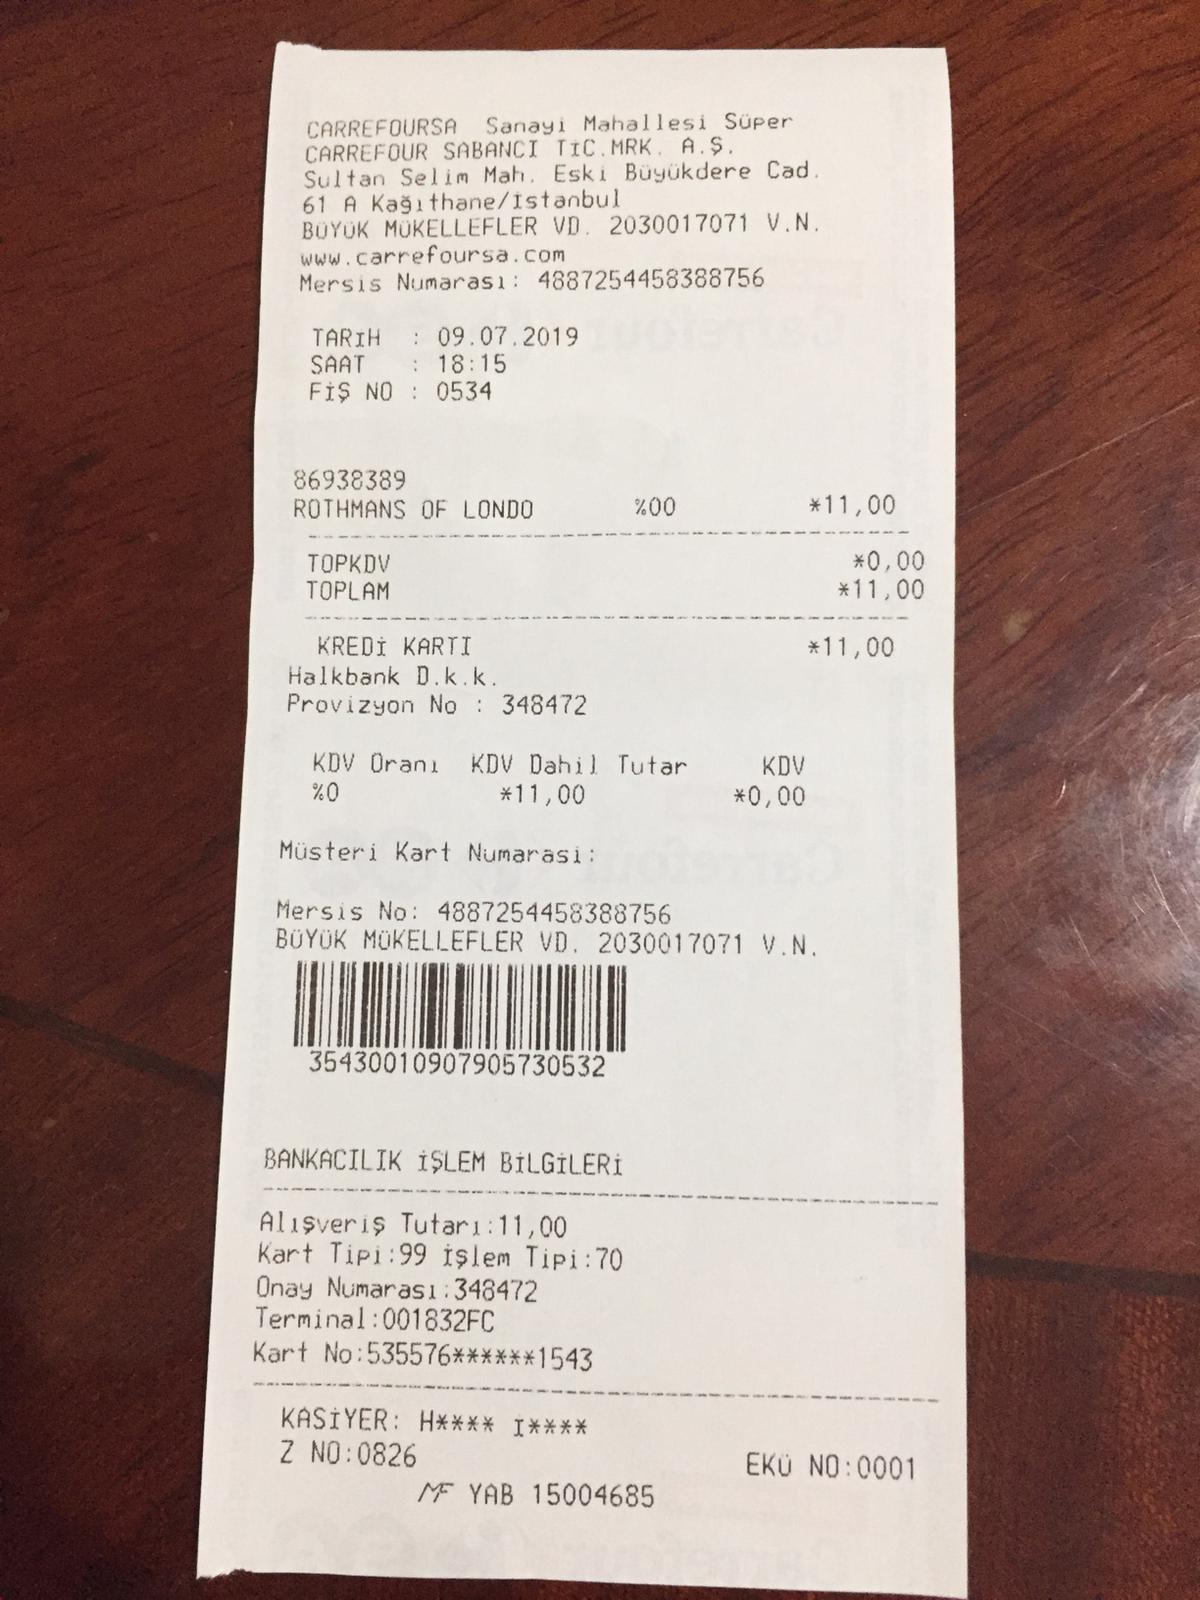total: (299, 574, 940, 608)
